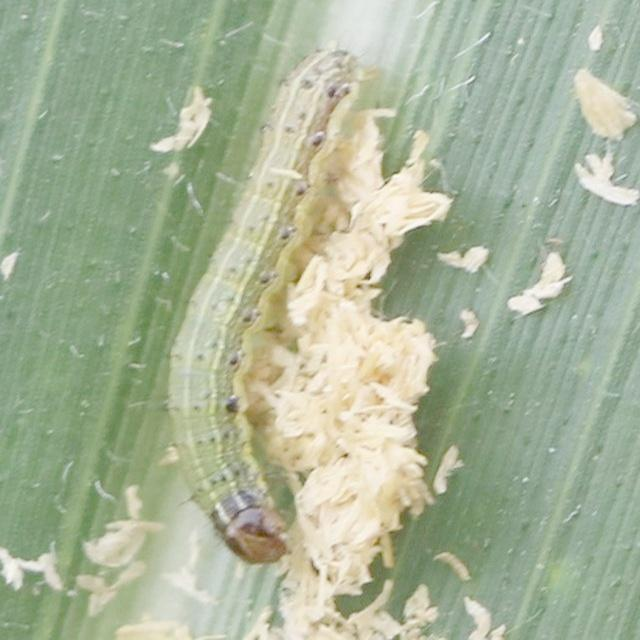gusano_cogollero: (159, 40, 368, 570)
